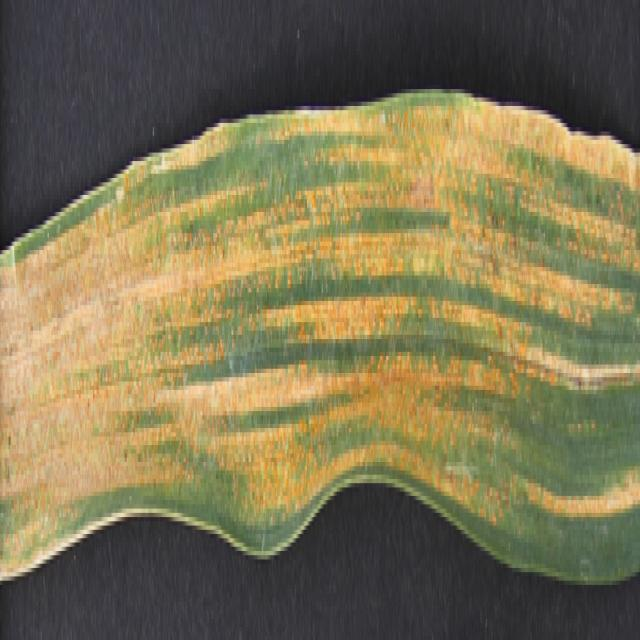leaf rust: (1, 110, 640, 555)
